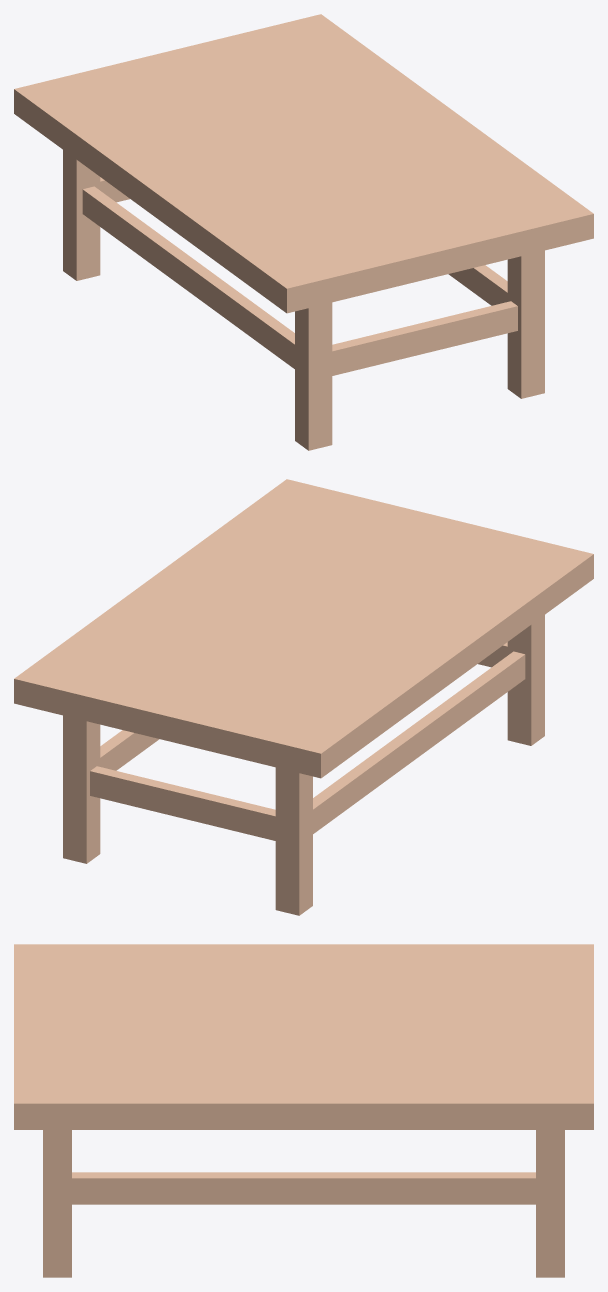
The picture shows the model from 3 angles, top to bottom: view 1: azimuth 30°, elevation 25°; view 2: azimuth 150°, elevation 25°; view 3: azimuth 270°, elevation 25°; orthographic projection. The views are drawn at different scales.
Visible parts, largest first — view 1: stall; view 2: stall; view 3: stall.
Boxes of the visible parts, left/top/right/bottom form: stall: left=14, top=14, right=593, bottom=450; stall: left=14, top=479, right=593, bottom=915; stall: left=14, top=944, right=593, bottom=1277.
Size of the model in its own units: 0.65 by 0.3655 by 1.
